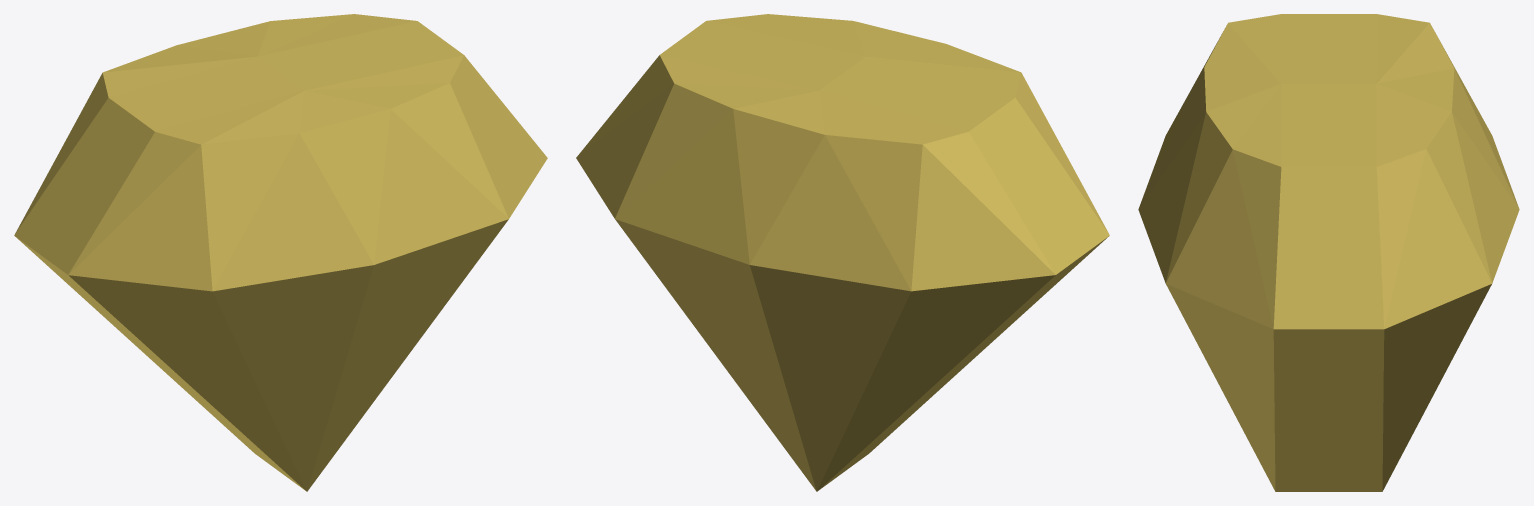
Rendered from Diamond_2.fbx.
3 renders of one model, left to right at view 1: azimuth 30°, elevation 25°; view 2: azimuth 150°, elevation 25°; view 3: azimuth 270°, elevation 25°, orthographic. The views are drawn at different scales.
Visible parts, largest first — view 1: Diamond_2; view 2: Diamond_2; view 3: Diamond_2.
Boxes of the visible parts, bbox=[...] form: Diamond_2: bbox=[14, 14, 547, 491]; Diamond_2: bbox=[576, 14, 1109, 491]; Diamond_2: bbox=[1138, 14, 1519, 491].
Bounding box in the file's own units: 40.81 × 32.45 × 27.46.
